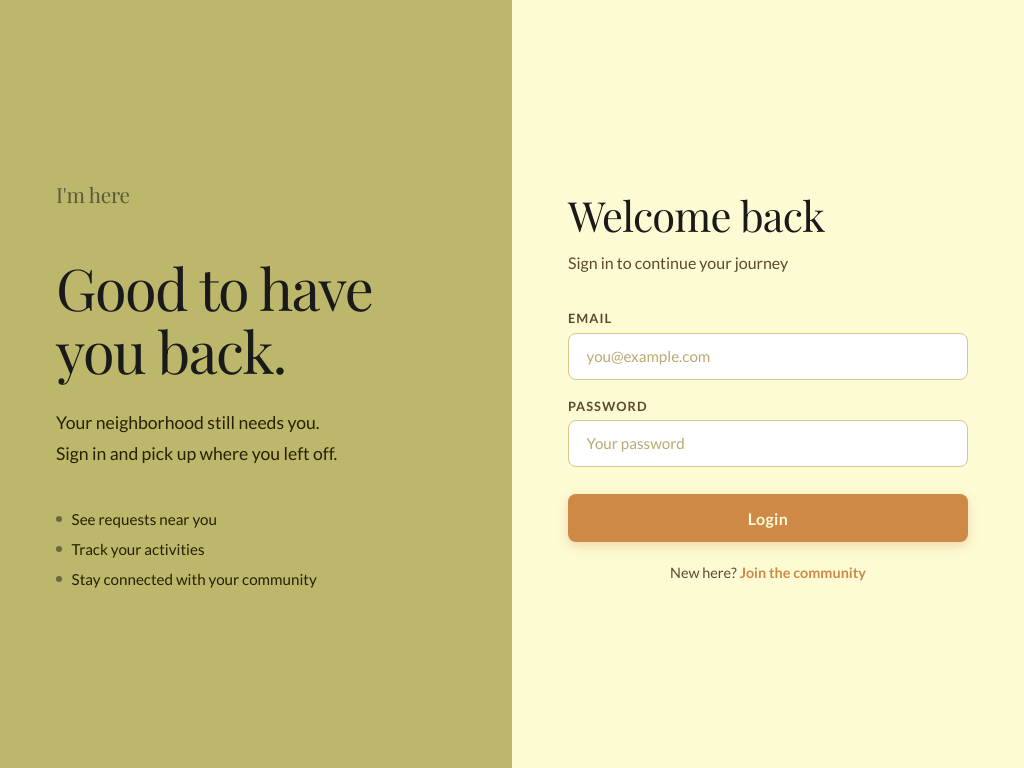
Scenario: Login page › displays an error on invalid credentials
In the field named "email": [768, 357] box [568,333,968,380], type "bad@user.com"
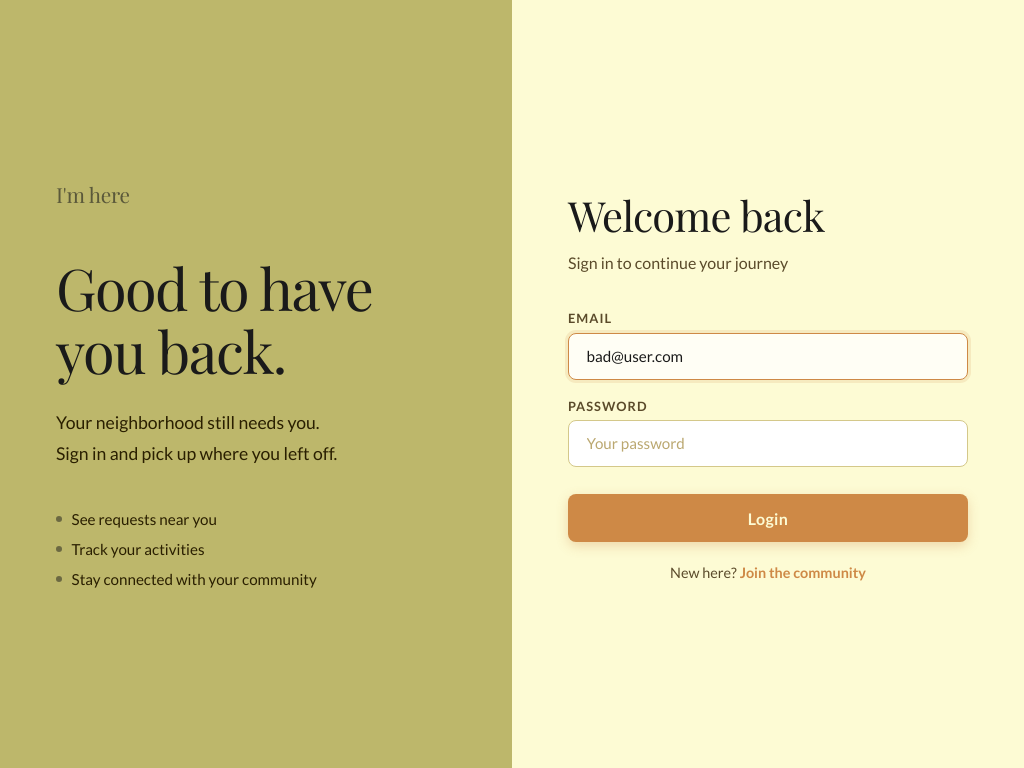
In the password field named "password": [768, 444] box [568,420,968,467], type "wrongpass"
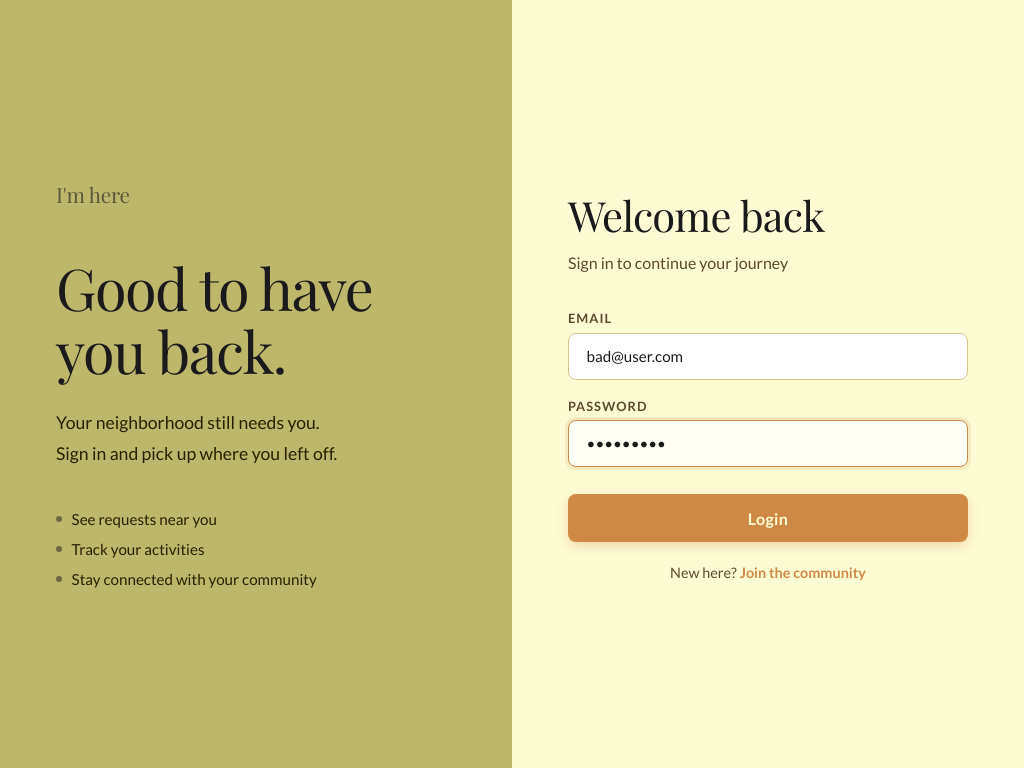
Click the submit button: [768, 518] box [568,494,968,542]
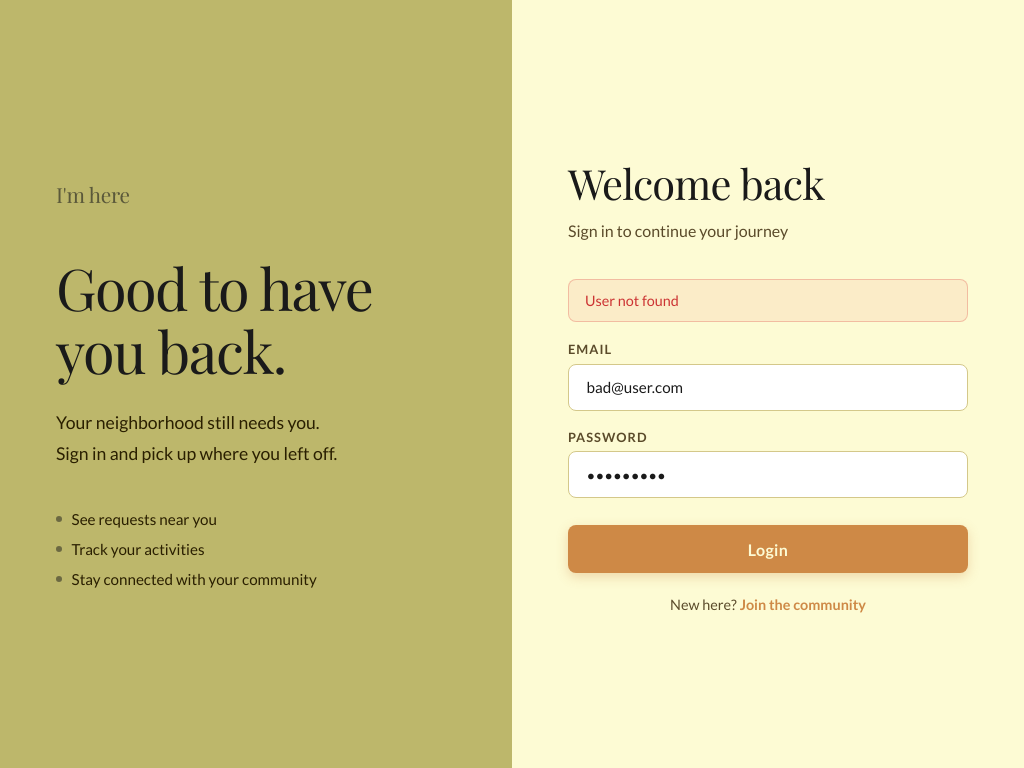
Check: the text "User not found" is shown, box [568,279,968,322]
